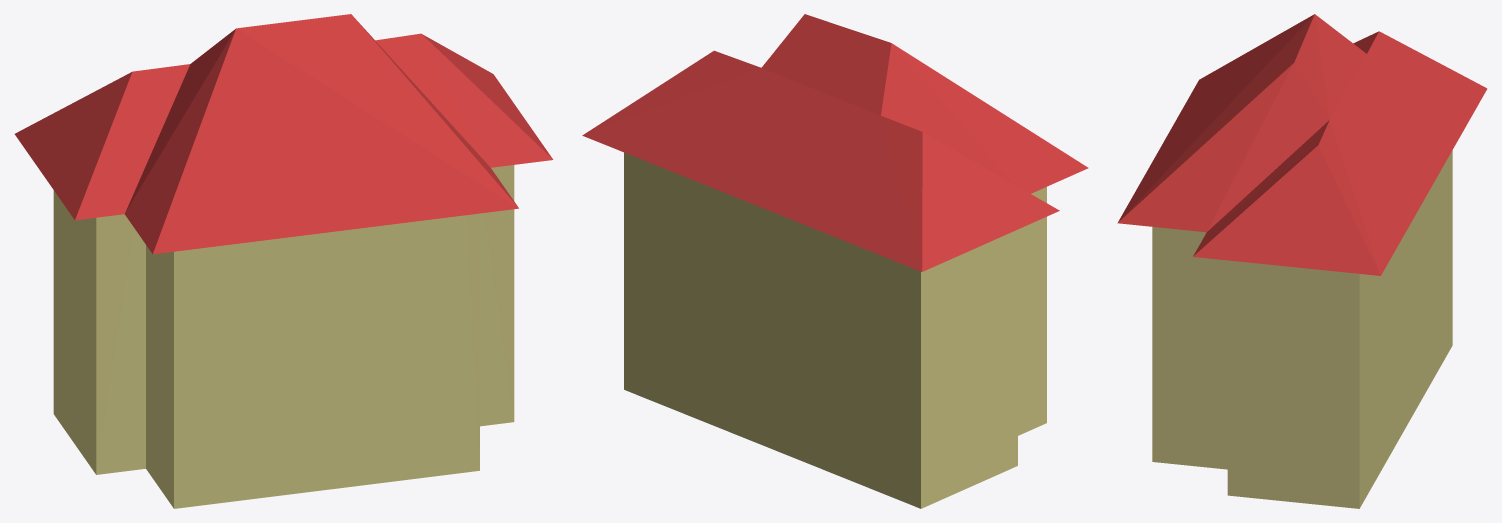
The picture shows the model from 3 angles, left to right: view 1: azimuth 30°, elevation 25°; view 2: azimuth 150°, elevation 25°; view 3: azimuth 270°, elevation 25°; orthographic projection. The views are drawn at different scales.
Visible parts, largest first — view 1: group_5, group_3, group_4; view 2: group_5, group_3, group_4; view 3: group_5, group_3, group_4.
Boxes of the visible parts, x1,y1,x2,y2 form: group_5: [53, 165, 514, 508]; group_3: [54, 14, 552, 254]; group_4: [14, 75, 552, 219]; group_5: [624, 152, 1046, 508]; group_3: [582, 14, 1088, 271]; group_4: [775, 141, 1059, 271]; group_5: [1152, 150, 1452, 508]; group_3: [1117, 14, 1487, 275]; group_4: [1122, 69, 1479, 275].
Bounding box in the file's own units: 16.95 × 12.83 × 14.49.
